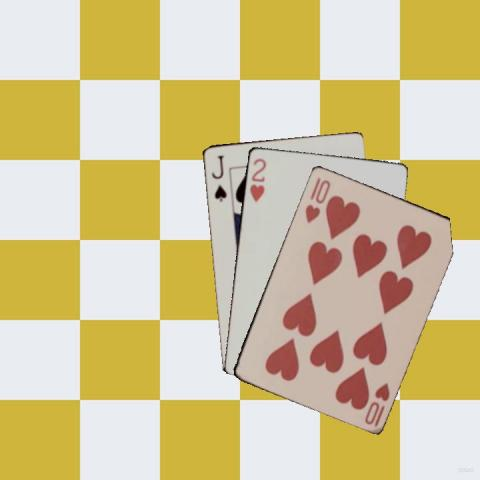10h: (301, 173, 332, 224), (362, 379, 392, 428)
2h: (246, 155, 267, 203)
Js: (208, 152, 227, 203)
